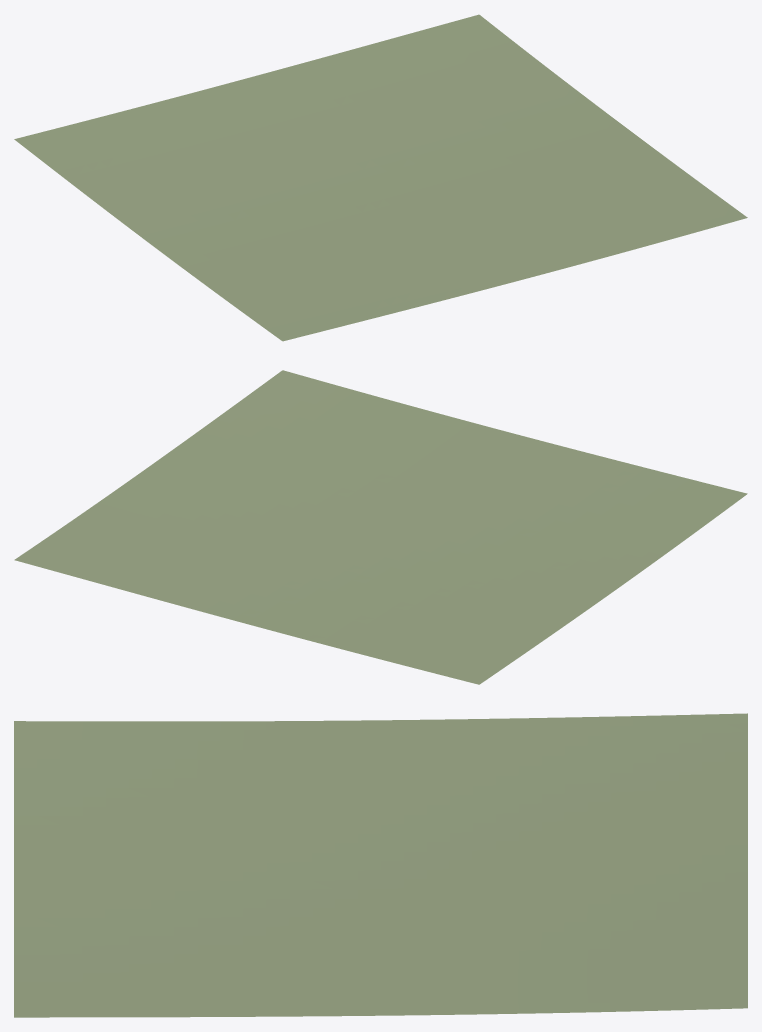
Rendered from expanse-21-19.glb.
3 views of the same model, one above another, from view 1: azimuth 30°, elevation 25°; view 2: azimuth 150°, elevation 25°; view 3: azimuth 270°, elevation 25° (orthographic). The views are drawn at different scales.
Visible parts, largest first — view 1: expanse-21-19; view 2: expanse-21-19; view 3: expanse-21-19.
Part boxes in pixels (x1,y1,x2,y2): expanse-21-19: (14, 14, 747, 341); expanse-21-19: (14, 370, 747, 684); expanse-21-19: (14, 713, 747, 1017).
Bounding box in the file's own units: 256 × 8.98 × 256.
